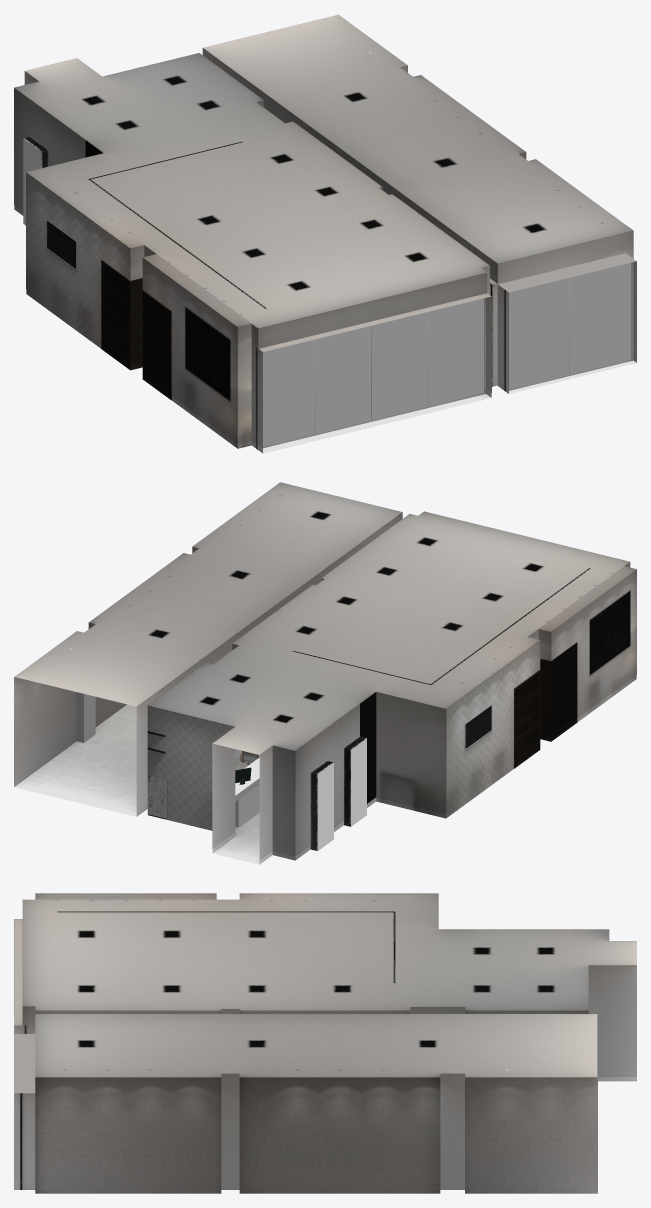
File: Luiz IEDA - Recepcao.fbx
3 renders of one model, top to bottom at view 1: azimuth 30°, elevation 25°; view 2: azimuth 150°, elevation 25°; view 3: azimuth 270°, elevation 25°, orthographic. The views are drawn at different scales.
Parts seen in each view (by area): view 1: Object059, PAREDE, Box135, MISCELANEOUS, Object060; view 2: Object059, PAREDE, Object060, MISCELANEOUS, Object061, Object063, Box138, Box144; view 3: Object059, Object061, PAREDE.
Boxes of the visible parts, <box> form: Object059: <box>14,14,632,328</box>; PAREDE: <box>14,48,636,453</box>; Box135: <box>263,262,631,446</box>; MISCELANEOUS: <box>23,136,633,449</box>; Object060: <box>263,360,636,453</box>; Object059: <box>14,482,629,754</box>; PAREDE: <box>77,512,636,864</box>; Object060: <box>14,704,259,864</box>; MISCELANEOUS: <box>147,642,577,851</box>; Object061: <box>14,677,126,786</box>; Object063: <box>360,692,376,803</box>; Box138: <box>147,775,166,818</box>; Box144: <box>235,784,259,827</box>; Object059: <box>22,893,636,1077</box>; Object061: <box>35,1077,597,1193</box>; PAREDE: <box>14,893,636,1189</box>.
Bounding box in the file's own units: 1021 × 301 × 1460.
